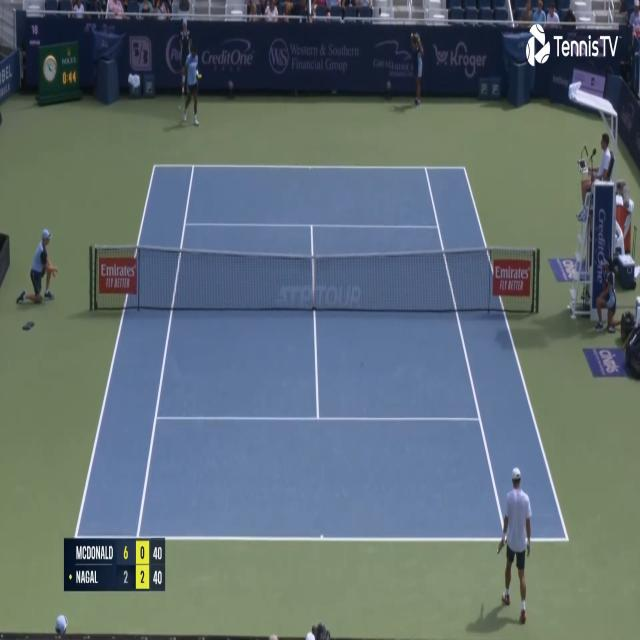tennis-player: (494, 465, 534, 624), (178, 39, 204, 128)
